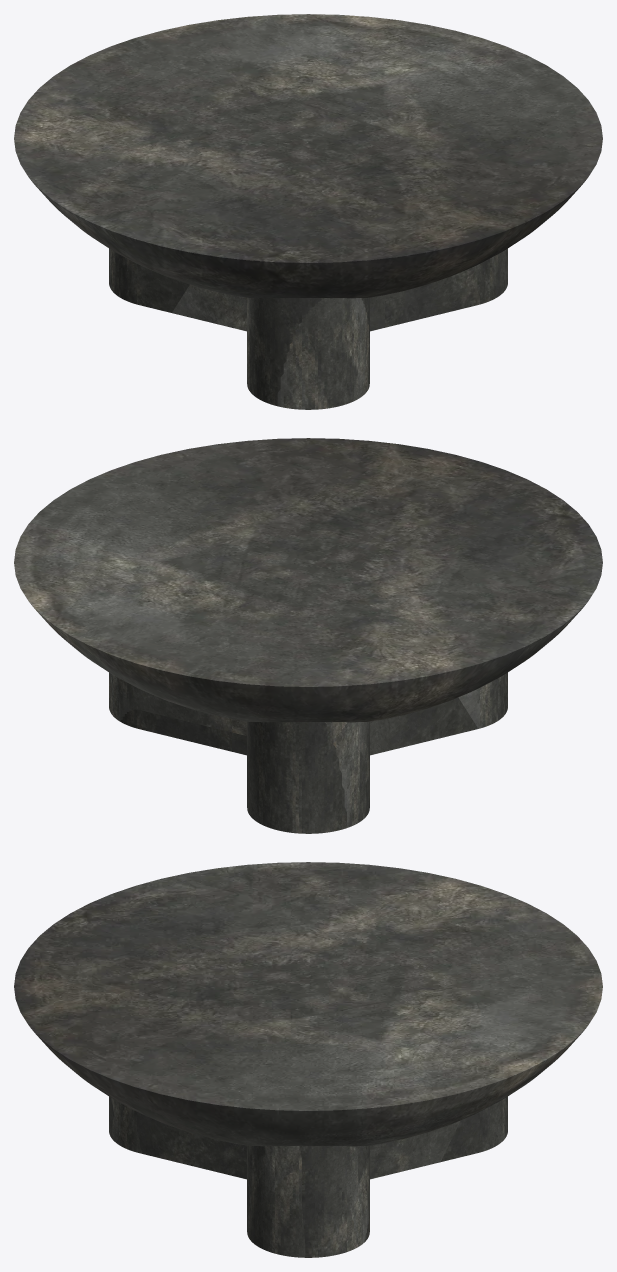
The model's file is stone_coffee_table.glb.
The picture shows the model from 3 angles, top to bottom: view 1: azimuth 30°, elevation 25°; view 2: azimuth 150°, elevation 25°; view 3: azimuth 270°, elevation 25°; orthographic projection.
Visible parts, largest first — view 1: Mesh1_chrome_67dogYGLpK_0, Mesh2_Photos_zDBgKbcXy4_0; view 2: Mesh1_chrome_67dogYGLpK_0, Mesh2_Photos_zDBgKbcXy4_0; view 3: Mesh1_chrome_67dogYGLpK_0, Mesh2_Photos_zDBgKbcXy4_0.
Boxes of the visible parts, x1,y1,x2,y2 form: Mesh1_chrome_67dogYGLpK_0: (14, 14, 602, 298); Mesh2_Photos_zDBgKbcXy4_0: (109, 248, 507, 409); Mesh1_chrome_67dogYGLpK_0: (14, 438, 602, 722); Mesh2_Photos_zDBgKbcXy4_0: (109, 672, 507, 833); Mesh1_chrome_67dogYGLpK_0: (14, 862, 602, 1146); Mesh2_Photos_zDBgKbcXy4_0: (109, 1096, 507, 1257).
Bounding box in the file's own units: 0.48 × 0.16 × 0.48.
2 materials, 2 textured.
